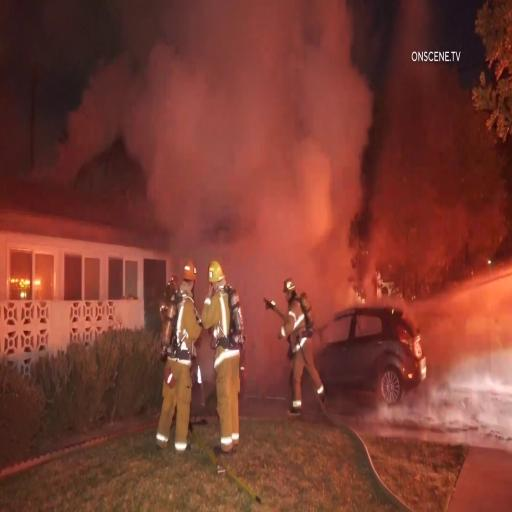smoke: (94, 6, 404, 175), (240, 177, 314, 256)
